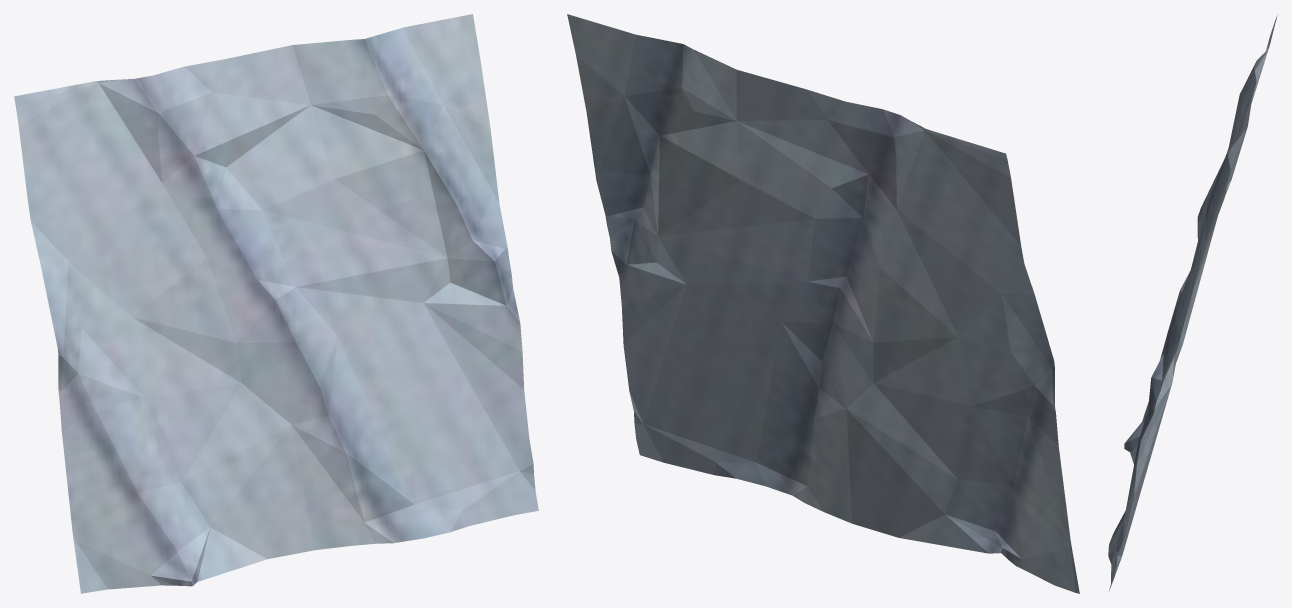
File: Tile_+002_+006_L24_0013230.obj
3 views of the same model, side by side, from view 1: azimuth 30°, elevation 25°; view 2: azimuth 150°, elevation 25°; view 3: azimuth 270°, elevation 25° (orthographic). The views are drawn at different scales.
Size of the model in its own units: 0.9531 by 0.9531 by 0.3705.
Materials: 1 (1 with a texture image).
